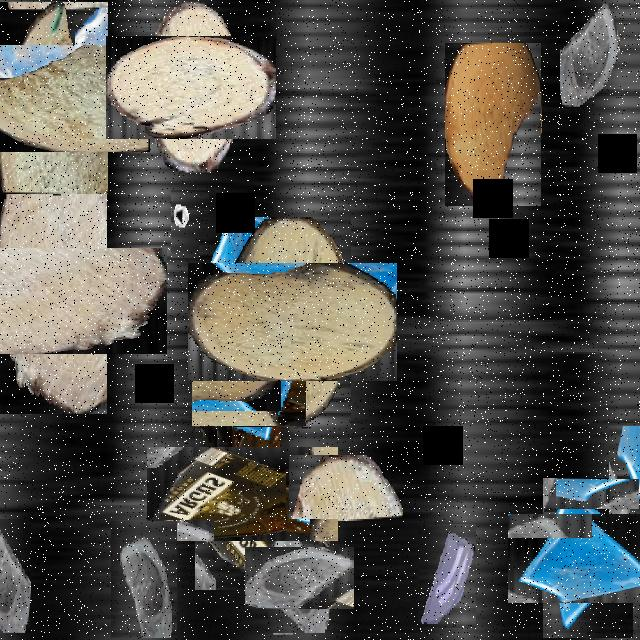glass: (199, 220, 291, 384), (525, 495, 640, 620), (204, 350, 294, 439), (111, 521, 177, 638), (256, 535, 342, 621), (560, 2, 620, 108), (418, 524, 476, 628), (0, 84, 58, 167), (582, 452, 640, 535), (0, 519, 31, 633)
metal: (171, 190, 209, 258)
plastic: (170, 422, 314, 566)
wood: (210, 240, 374, 404), (0, 216, 137, 384), (0, 23, 129, 173), (123, 18, 260, 156), (445, 43, 541, 206), (289, 455, 403, 519)
